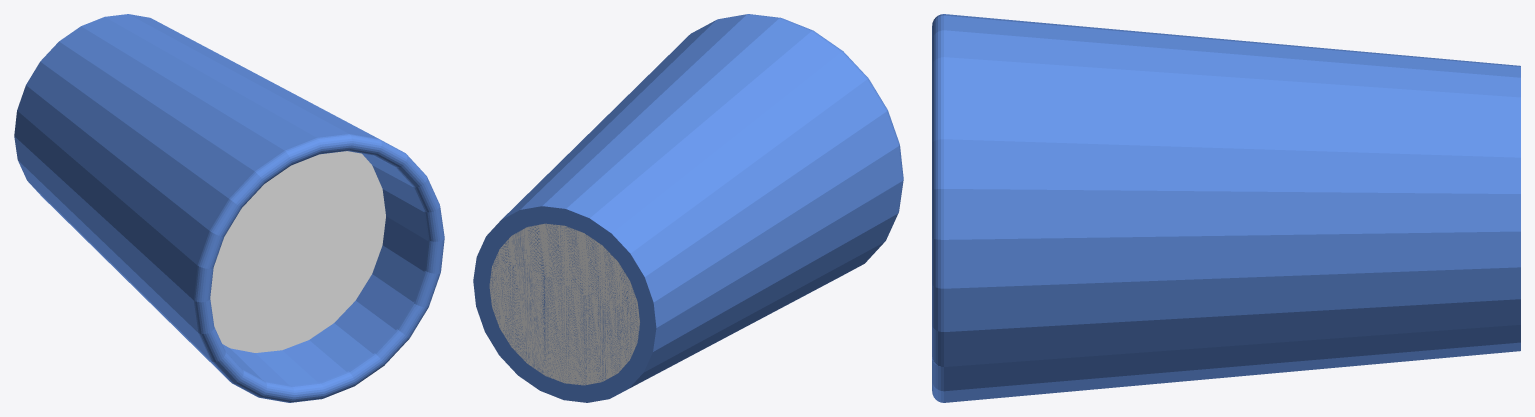
The picture shows the model from 3 angles, left to right: view 1: azimuth 30°, elevation 25°; view 2: azimuth 150°, elevation 25°; view 3: azimuth 270°, elevation 25°; orthographic projection. The views are drawn at different scales.
Visible parts, largest first — view 1: glass; view 2: glass; view 3: glass.
Boxes of the visible parts, box(x1,y1,x2,y2) form: glass: box(14, 14, 444, 402); glass: box(473, 14, 903, 402); glass: box(932, 14, 1520, 402).
Bounding box in the file's own units: 152 × 152 × 230.
